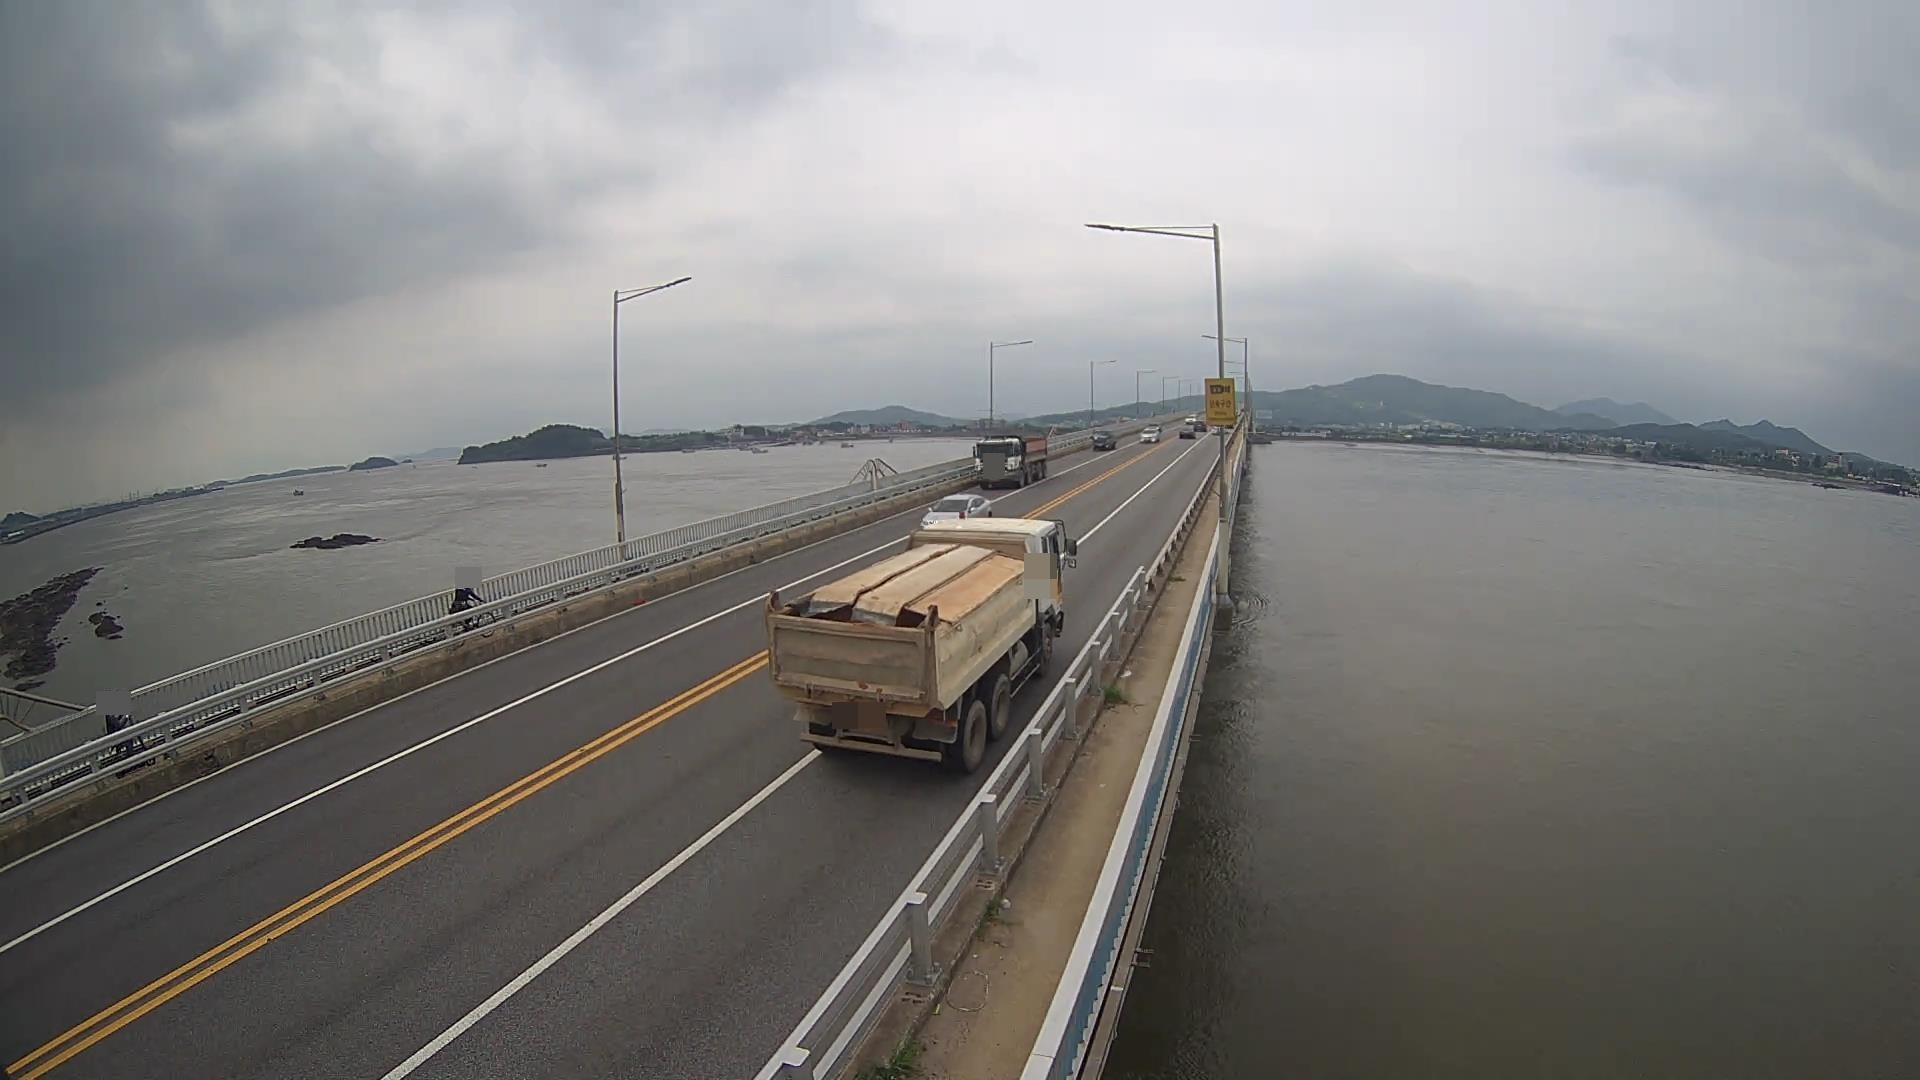정상차량: (764, 518, 1077, 775)
